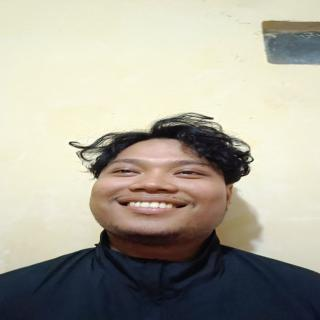Senang: (83, 134, 245, 242)
